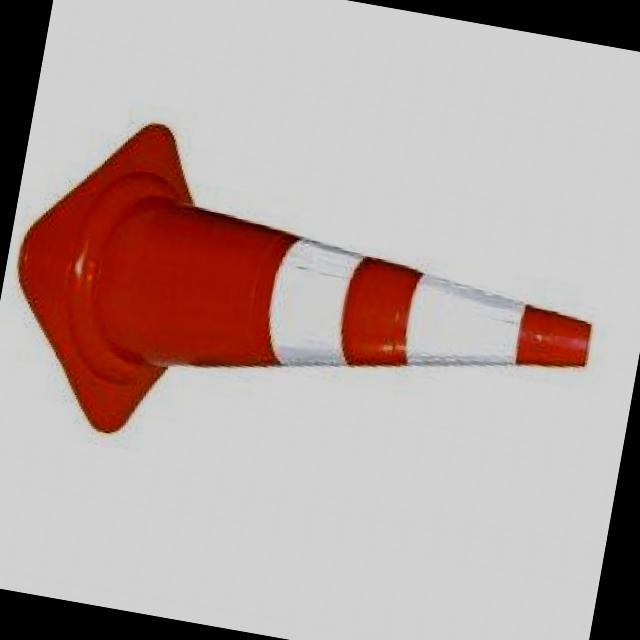cone: (0, 105, 609, 513)
